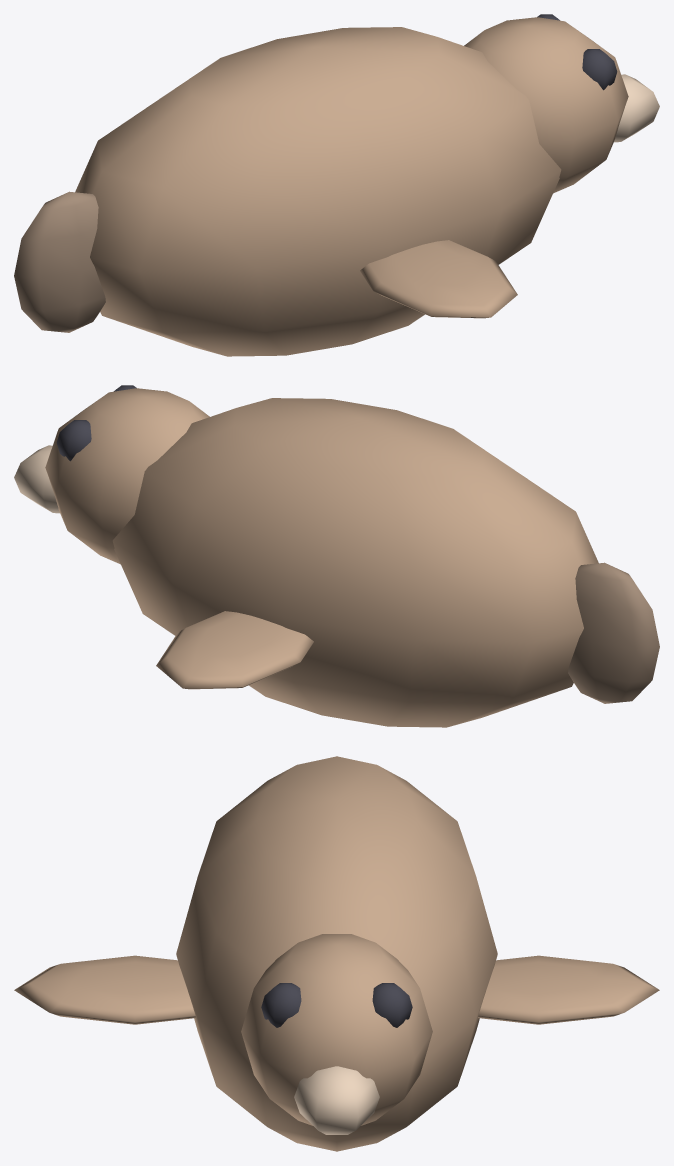
The model's file is sealion-Dp8hrKny.glb.
3 views of the same model, one above another, from view 1: azimuth 30°, elevation 25°; view 2: azimuth 150°, elevation 25°; view 3: azimuth 270°, elevation 25° (orthographic). The views are drawn at different scales.
Parts seen in each view (by area): view 1: body, head, tail, flip_-1, snout, eye_-1; view 2: body, head, tail, flip_1, snout, eye_1; view 3: body, head, flip_-1, flip_1, snout, eye_-1, eye_1.
Part boxes in pixels (left/top/right/bottom): body: left=75, top=27, right=561, bottom=356; head: left=464, top=17, right=628, bottom=193; tail: left=14, top=191, right=105, bottom=332; flip_-1: left=360, top=240, right=517, bottom=318; snout: left=614, top=74, right=659, bottom=142; eye_-1: left=582, top=49, right=617, bottom=90; body: left=112, top=398, right=598, bottom=727; head: left=45, top=388, right=209, bottom=564; tail: left=568, top=562, right=659, bottom=703; flip_1: left=156, top=611, right=313, bottom=689; snout: left=14, top=445, right=59, bottom=513; eye_1: left=56, top=420, right=91, bottom=461; body: left=176, top=756, right=497, bottom=1151; head: left=241, top=934, right=432, bottom=1125; flip_-1: left=14, top=955, right=195, bottom=1024; flip_1: left=478, top=955, right=659, bottom=1024; snout: left=294, top=1066, right=379, bottom=1134; eye_-1: left=261, top=983, right=301, bottom=1027; eye_1: left=372, top=983, right=412, bottom=1027.
Size of the model in its own units: 2.76 by 1.2 by 2.28.
